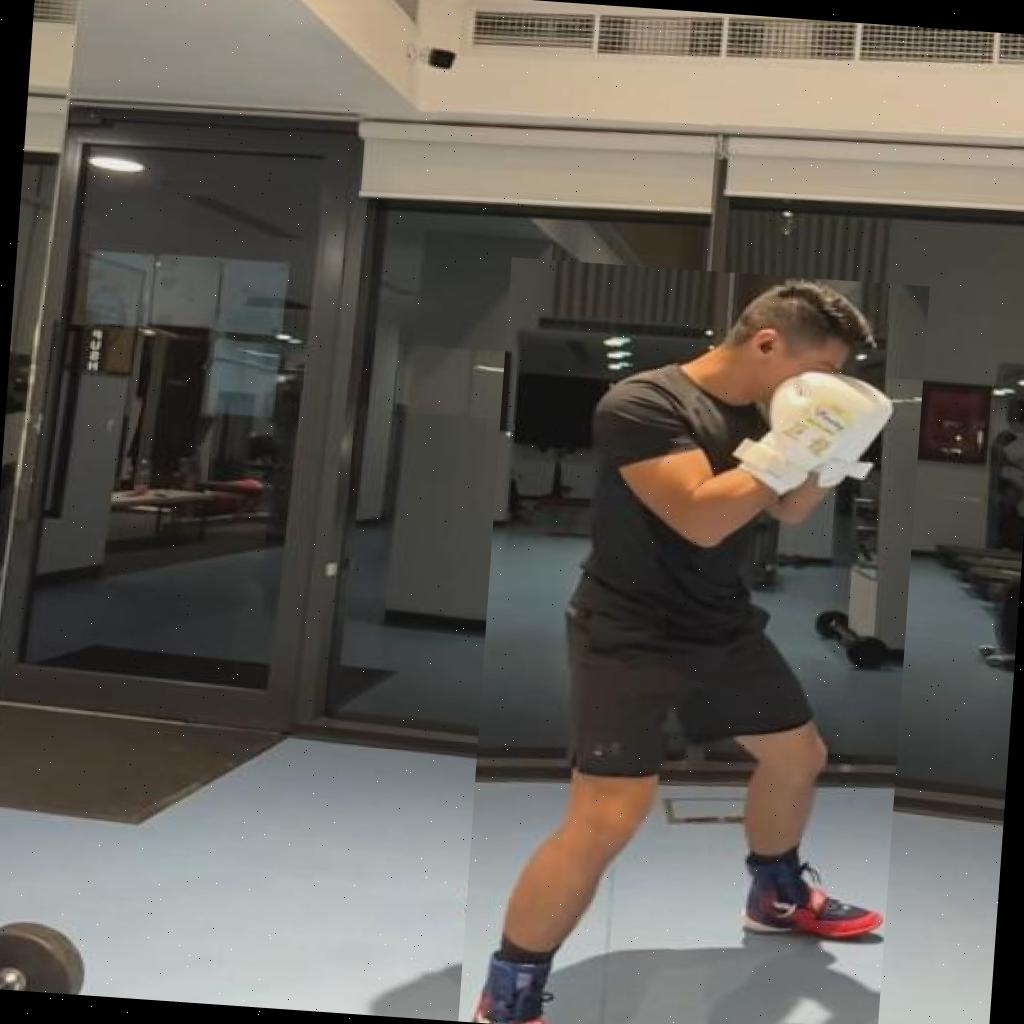no punch: (458, 257, 929, 1024)
